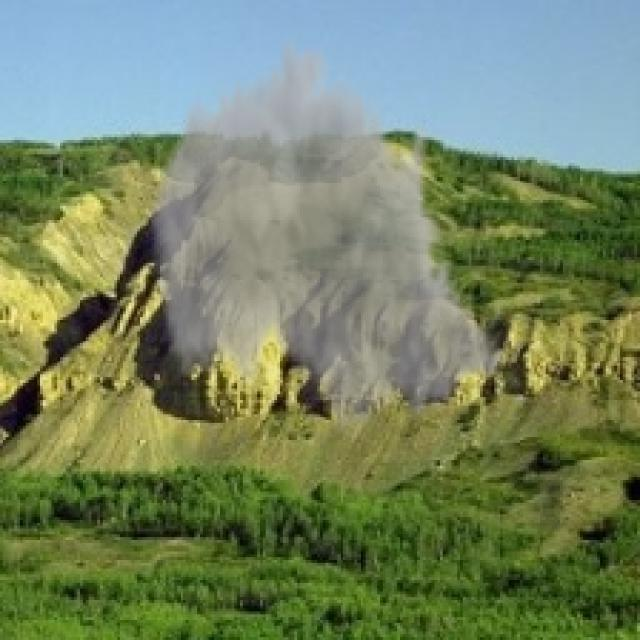Smoke: (146, 28, 508, 446)
